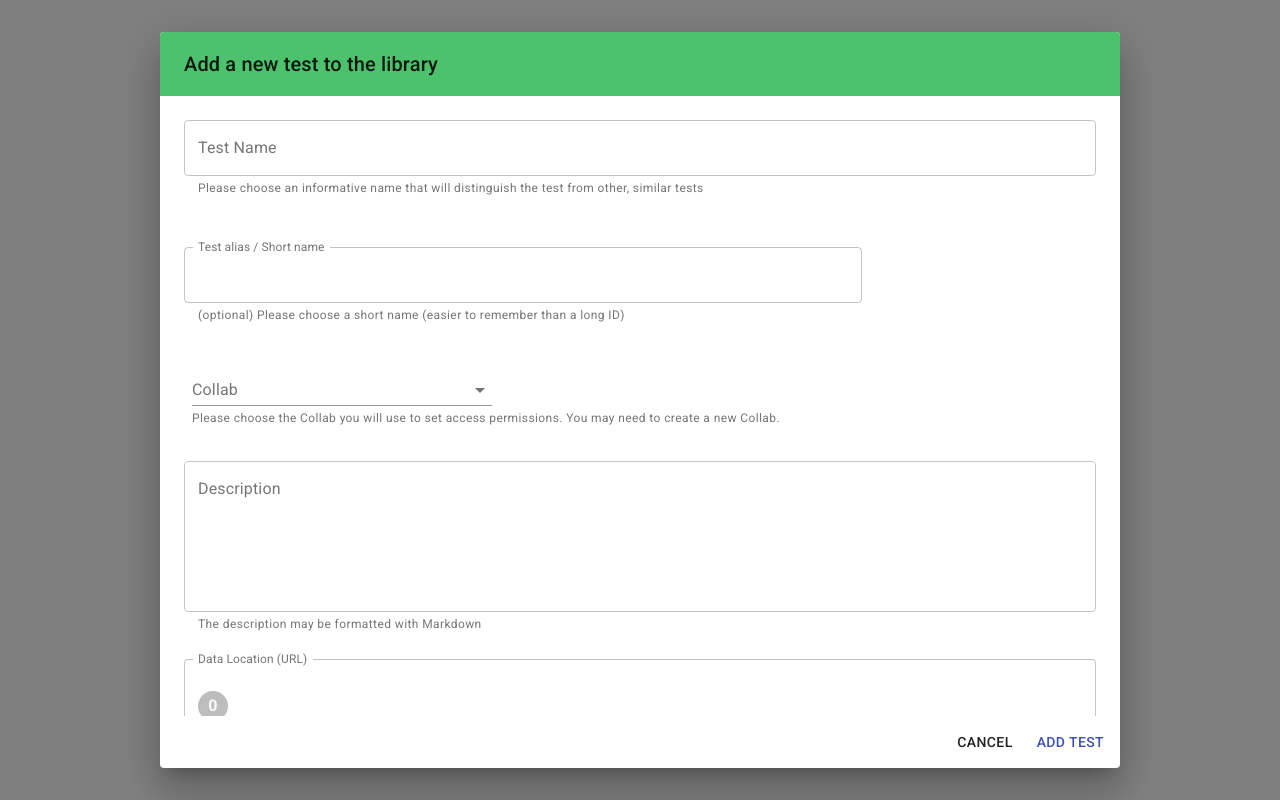
Test: TestAddForm › handleSubmit › shows error when createTest rejects
In the field named "name" next to "Test Name": (640, 148) [184,120,1096,176], type "Test"
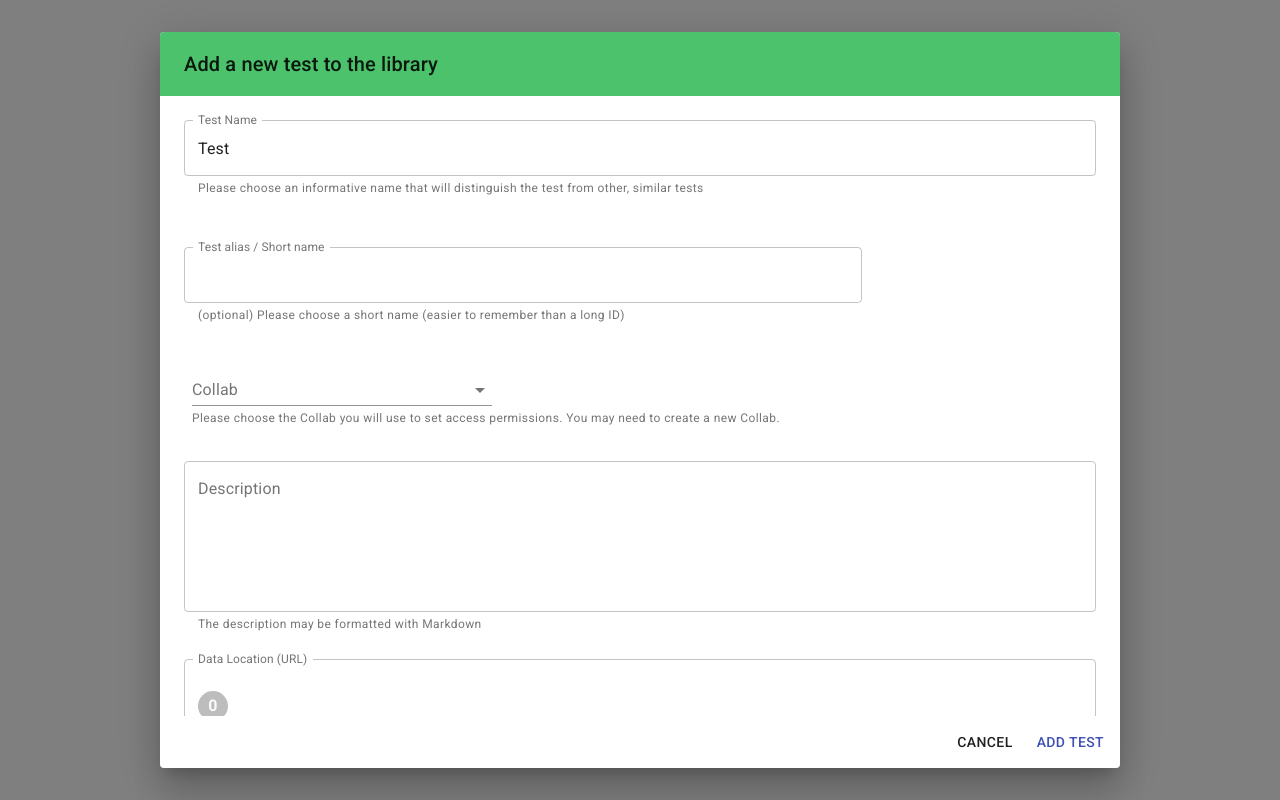
Click the button "Add Test": (1070, 742) [1029,724,1112,760]
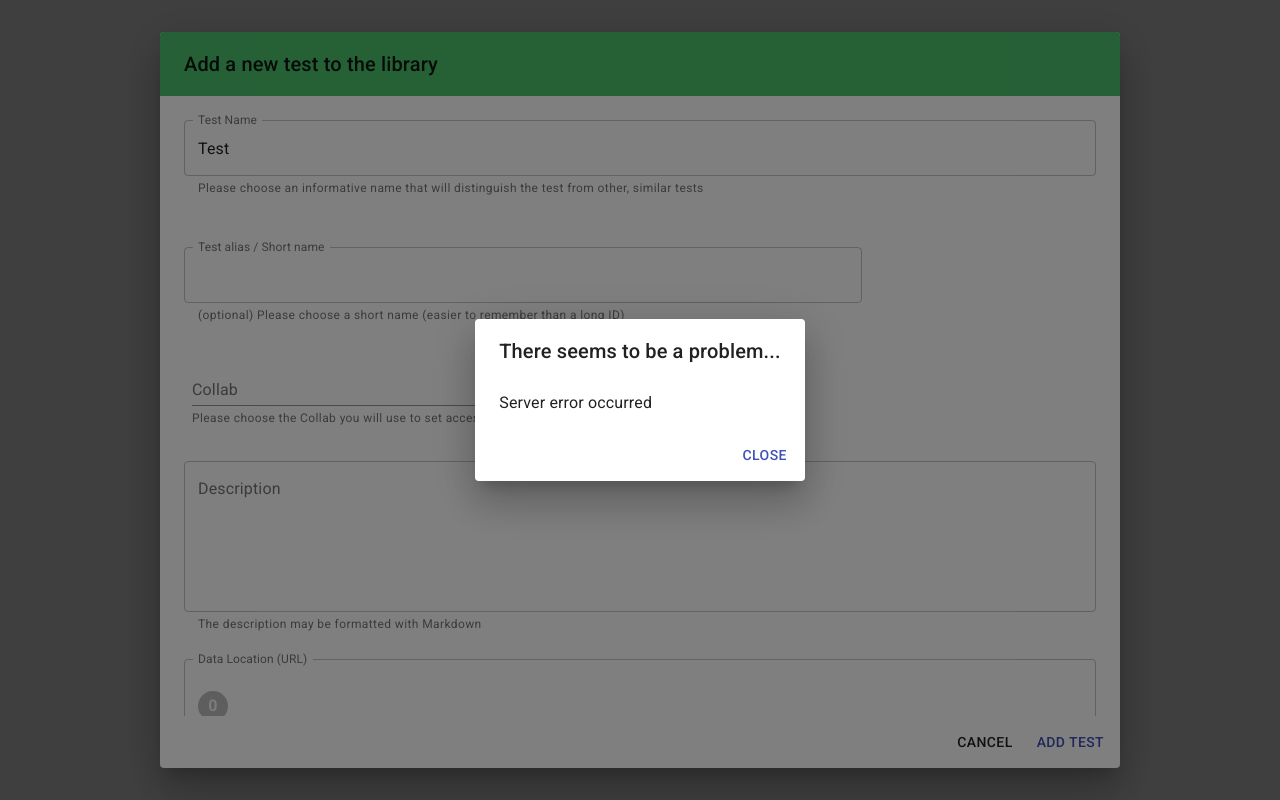
Check: the text "Server error occurred" is shown, box [499,393,652,412]
